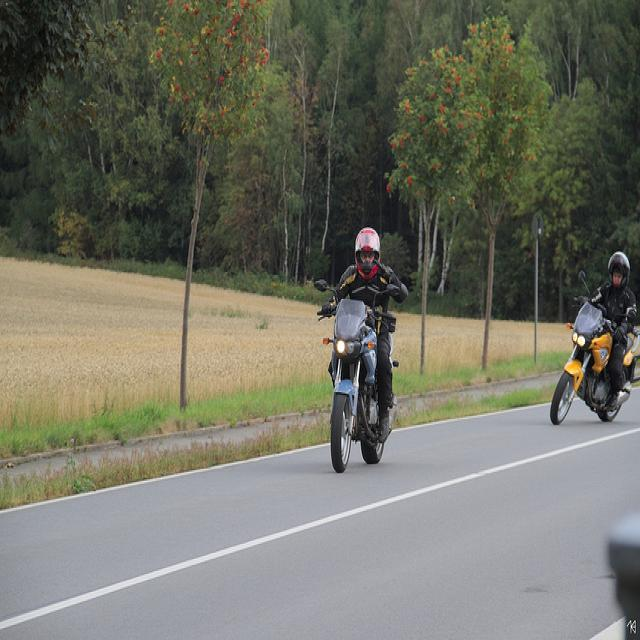motor: (314, 279, 402, 473), (546, 275, 618, 425)
